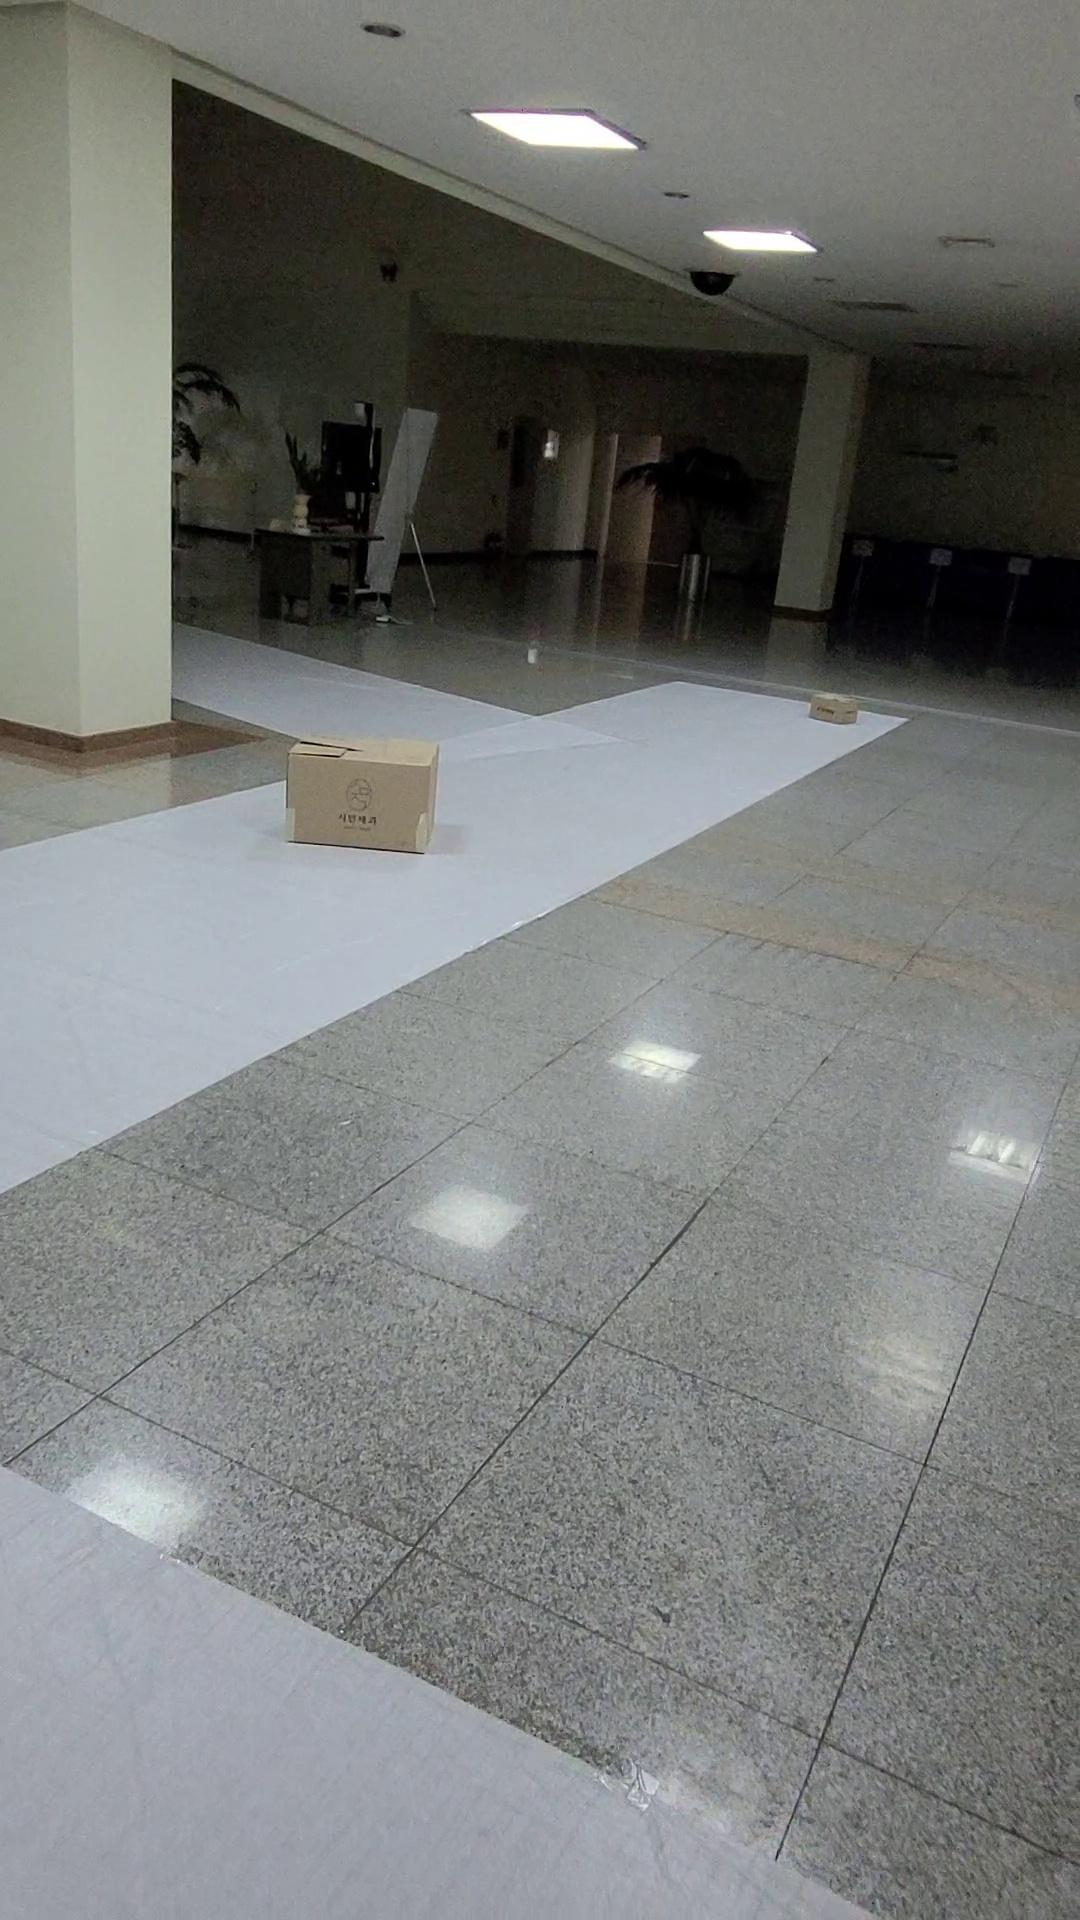Box: (256, 720, 475, 897), (800, 673, 905, 773)
